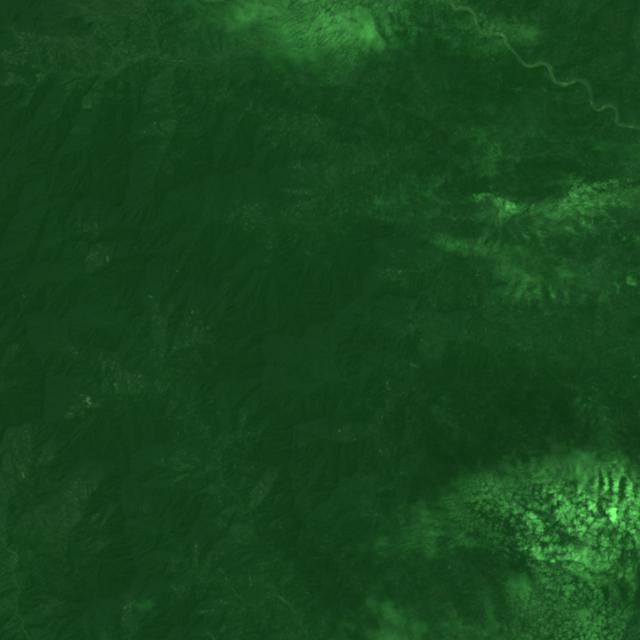landslides: (310, 556, 329, 562), (586, 215, 594, 228)
